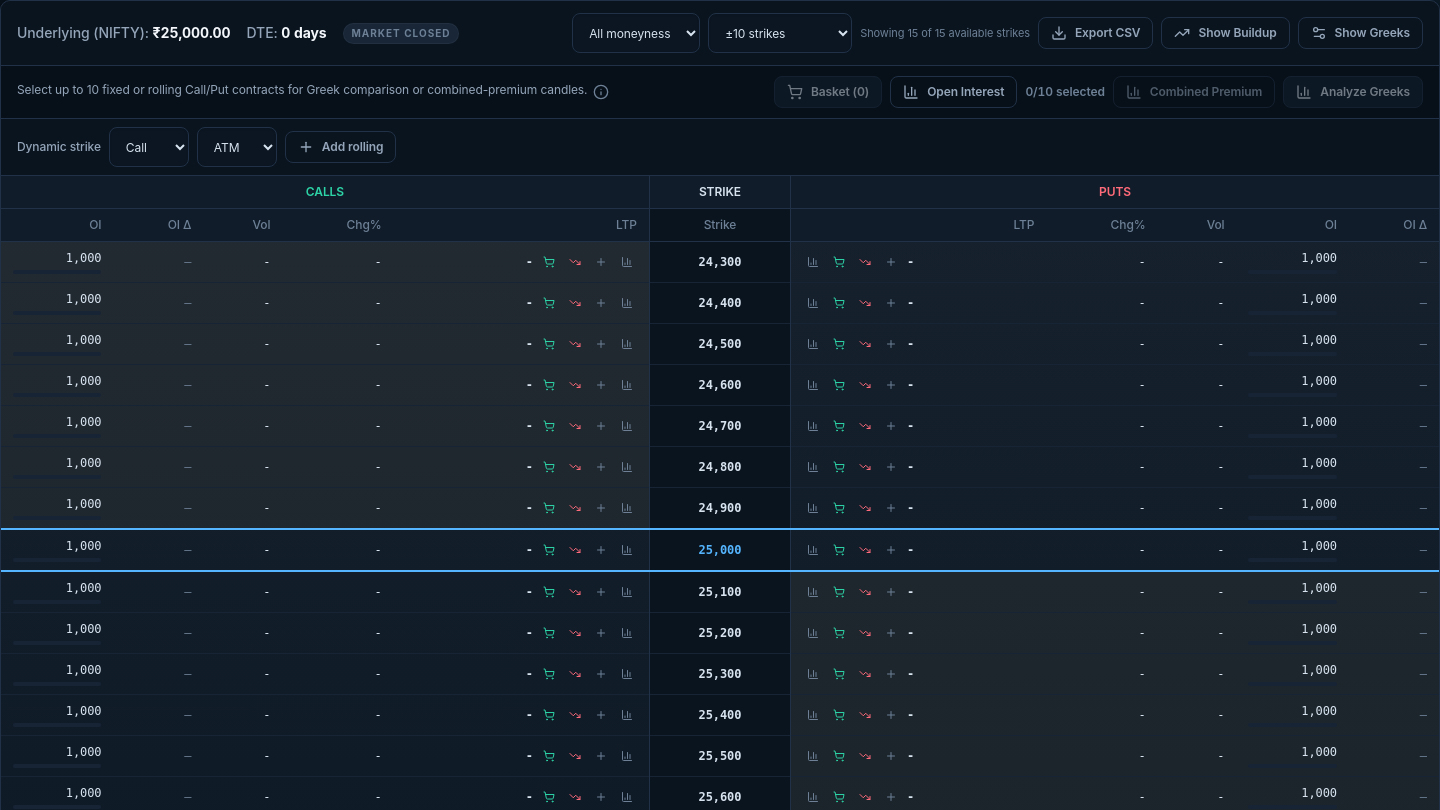
OptionChain — rendering strikes › filters strikes by the strike-range select
Expected: the text "Showing 15 of 15 available strikes" is shown, [860,25,1030,41]
Select "±5 strikes" in the dropdown named "Filter option chain by strike range": {"x": 780, "y": 33} [708,13,852,53]
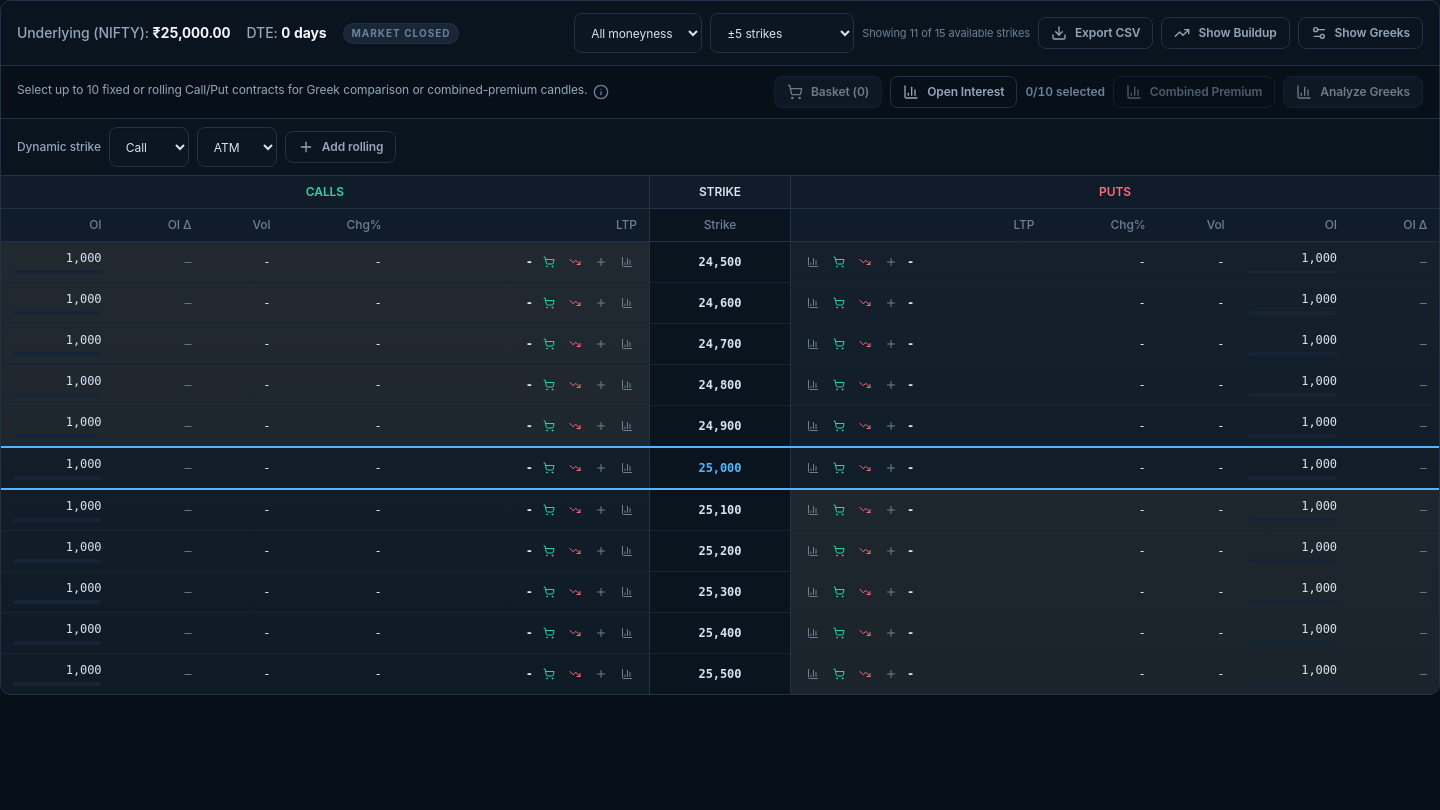
Expected: the text "Showing 11 of 15 available strikes" is shown, [862,25,1030,41]
